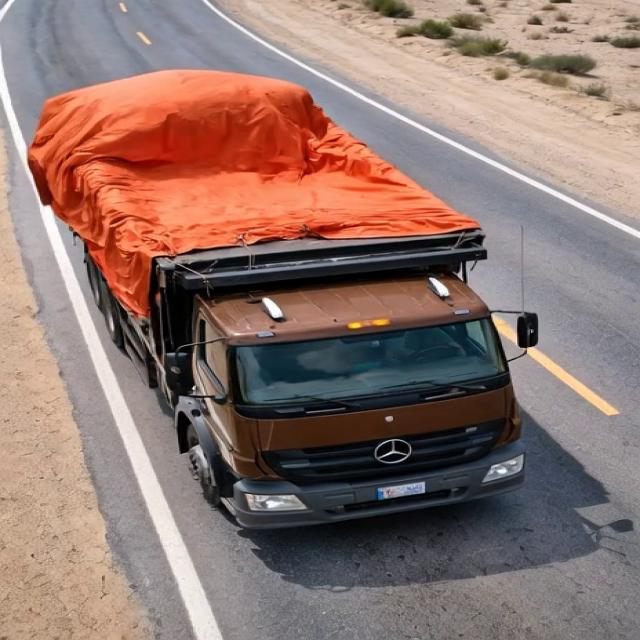Box: (31, 68, 470, 248)
Truck: (18, 62, 554, 521)
